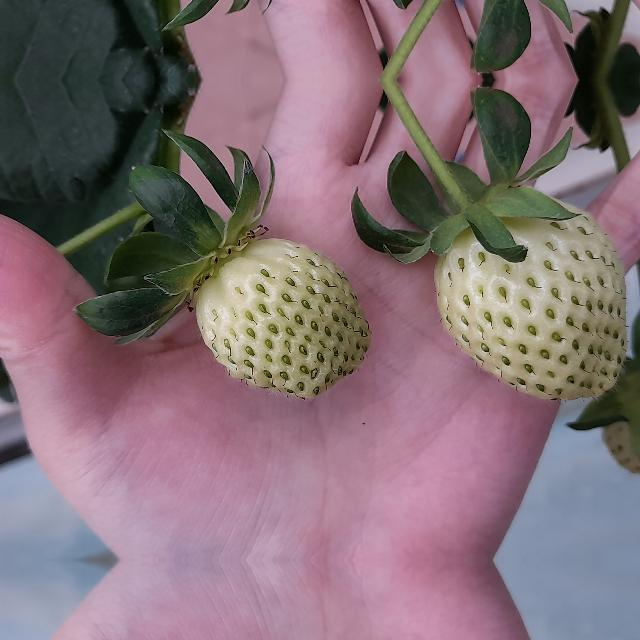Health_25: (440, 189, 626, 403), (196, 238, 370, 398)
